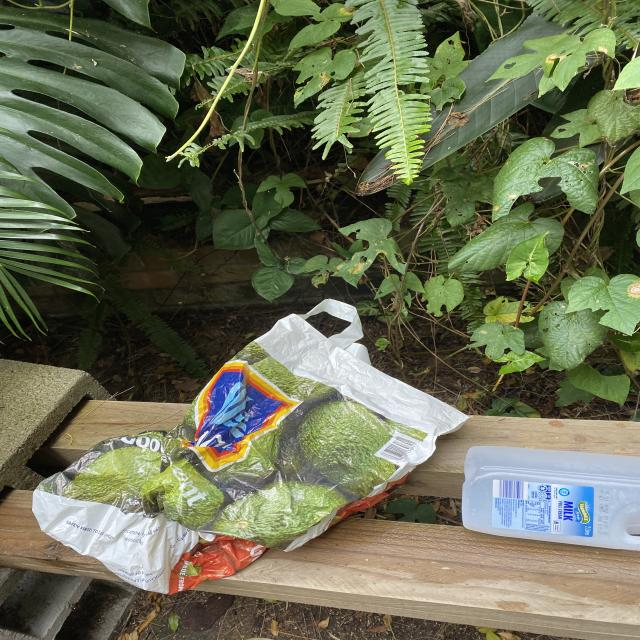bag: (33, 298, 469, 594)
bottle: (461, 446, 640, 550)
